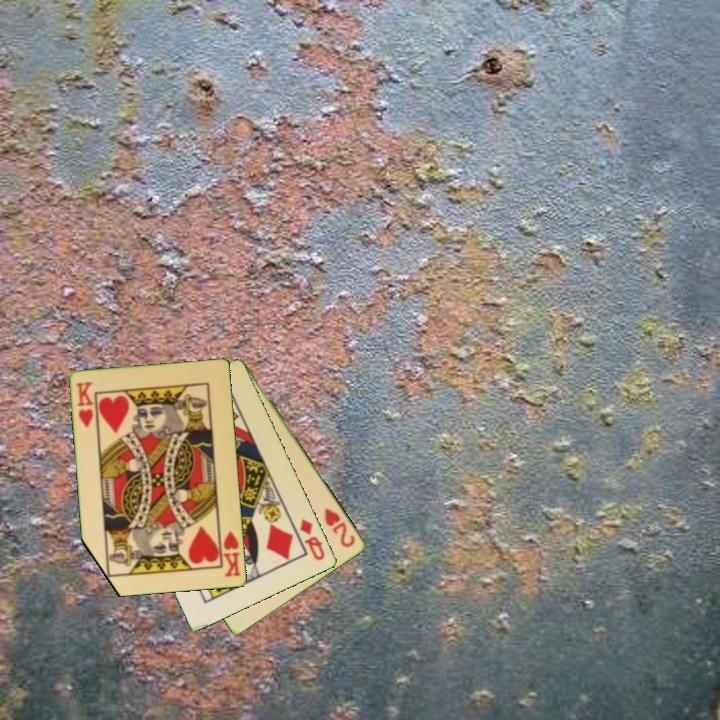2h: (321, 505, 359, 551)
Kh: (216, 526, 244, 580), (73, 379, 97, 431)
Qd: (297, 515, 328, 564)
